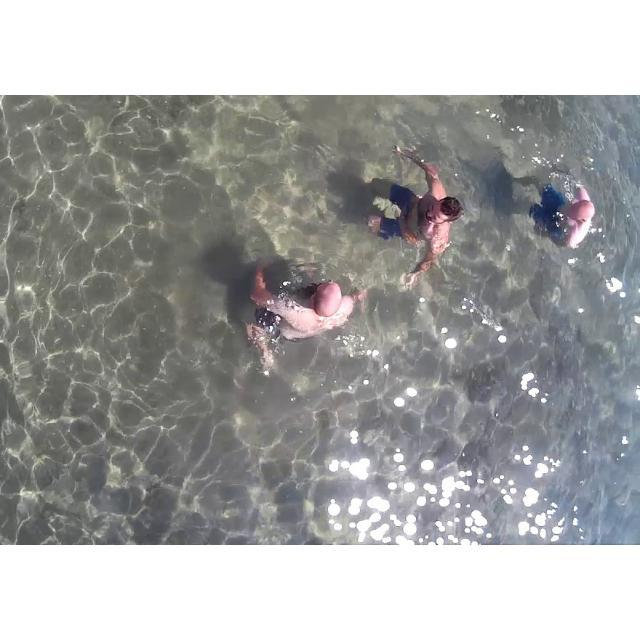human: (235, 250, 368, 369), (365, 131, 465, 283), (512, 151, 605, 265)
